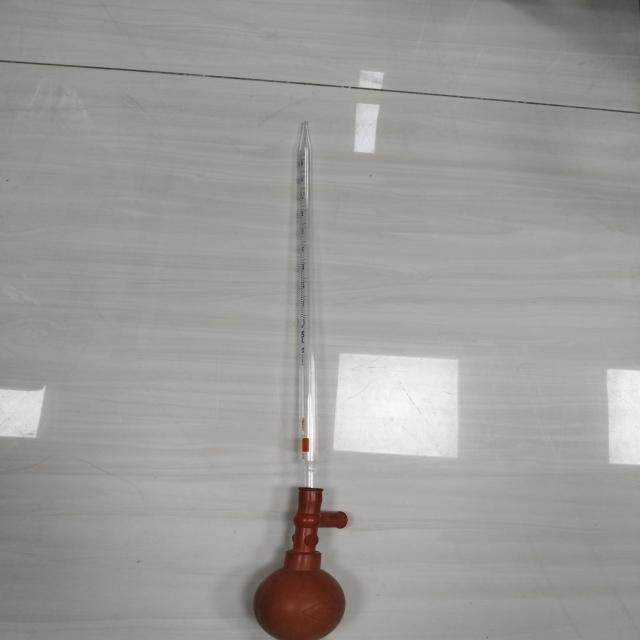Volumetric_Pipet: (260, 105, 367, 640)
